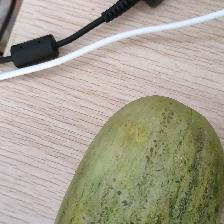gua: (115, 110, 193, 207)
